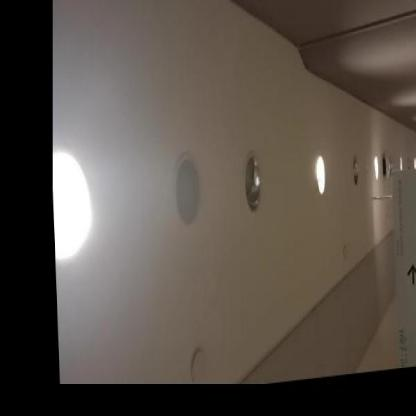light_off: (234, 127, 270, 234), (342, 134, 364, 205), (379, 146, 390, 188)
